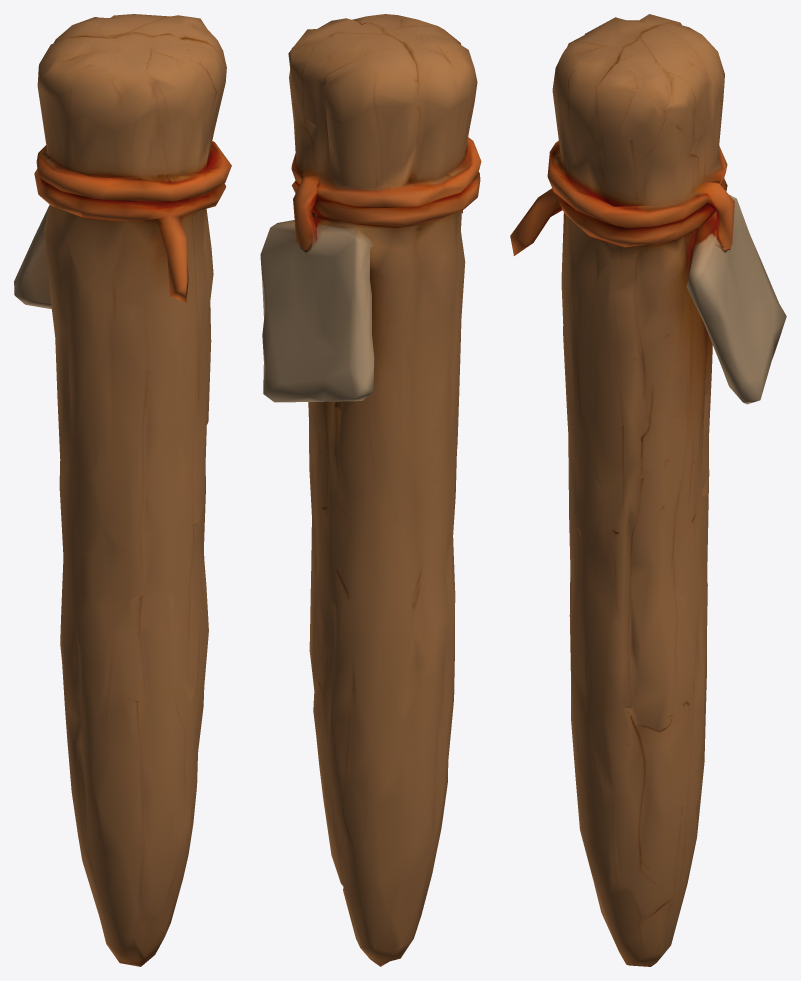
File: grid_stake.glb
The picture shows the model from 3 angles, left to right: view 1: azimuth 30°, elevation 25°; view 2: azimuth 150°, elevation 25°; view 3: azimuth 270°, elevation 25°; orthographic projection.
Visible parts, largest first — view 1: tripo_node_b35233ab-ff84-4298-aae0-9b75f24e082c; view 2: tripo_node_b35233ab-ff84-4298-aae0-9b75f24e082c; view 3: tripo_node_b35233ab-ff84-4298-aae0-9b75f24e082c.
Part boxes in pixels (x1=…): tripo_node_b35233ab-ff84-4298-aae0-9b75f24e082c: x1=14, y1=14, x2=231, y2=966; tripo_node_b35233ab-ff84-4298-aae0-9b75f24e082c: x1=260, y1=14, x2=481, y2=966; tripo_node_b35233ab-ff84-4298-aae0-9b75f24e082c: x1=510, y1=14, x2=786, y2=966.
Bounding box in the file's own units: 0.1991 × 1 × 0.2706.
Materials: 1 (1 with a texture image).
